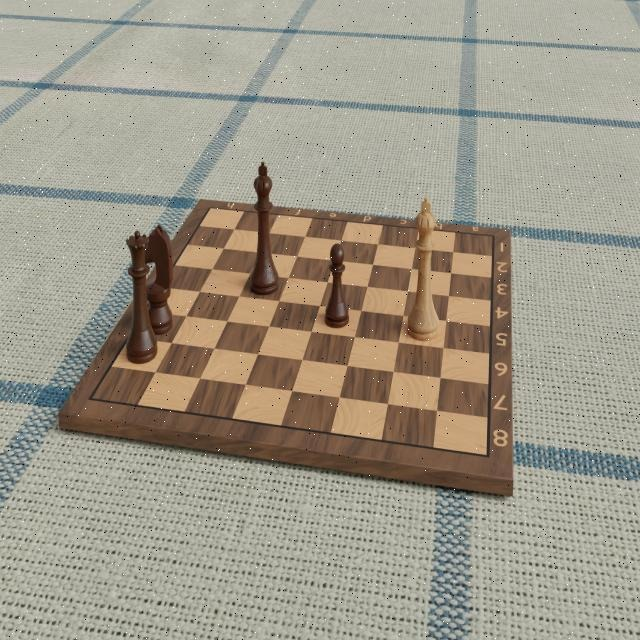black-king: (248, 161, 280, 295)
black-knight: (142, 221, 174, 335)
black-pawn: (323, 242, 353, 330)
black-queen: (124, 231, 159, 365)
white-king: (405, 195, 441, 345)
